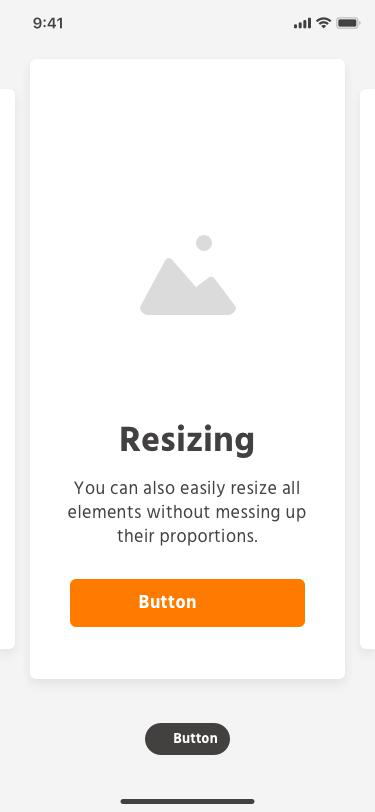Card: (27, 56, 346, 680)
Image: (140, 234, 237, 316)
Text: (69, 481, 306, 546), (121, 424, 254, 459)
TextButton: (71, 579, 306, 627), (146, 723, 231, 755)
UpperTaskBar: (33, 16, 362, 30)
